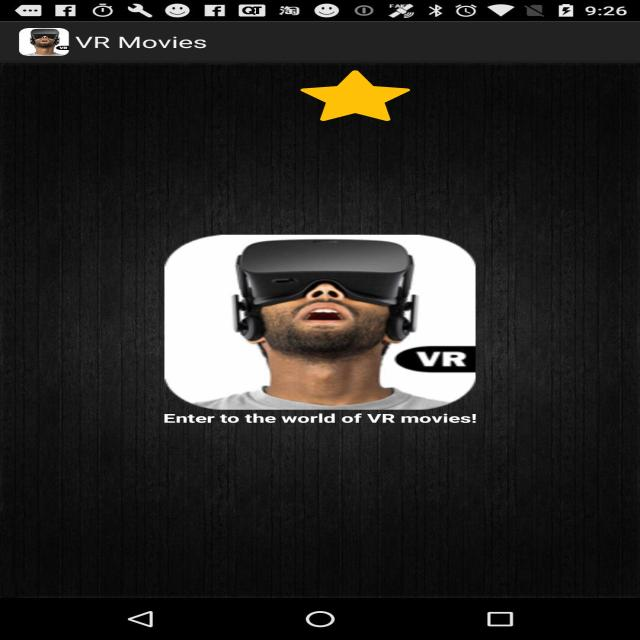forced continuity: (301, 70, 410, 121)
